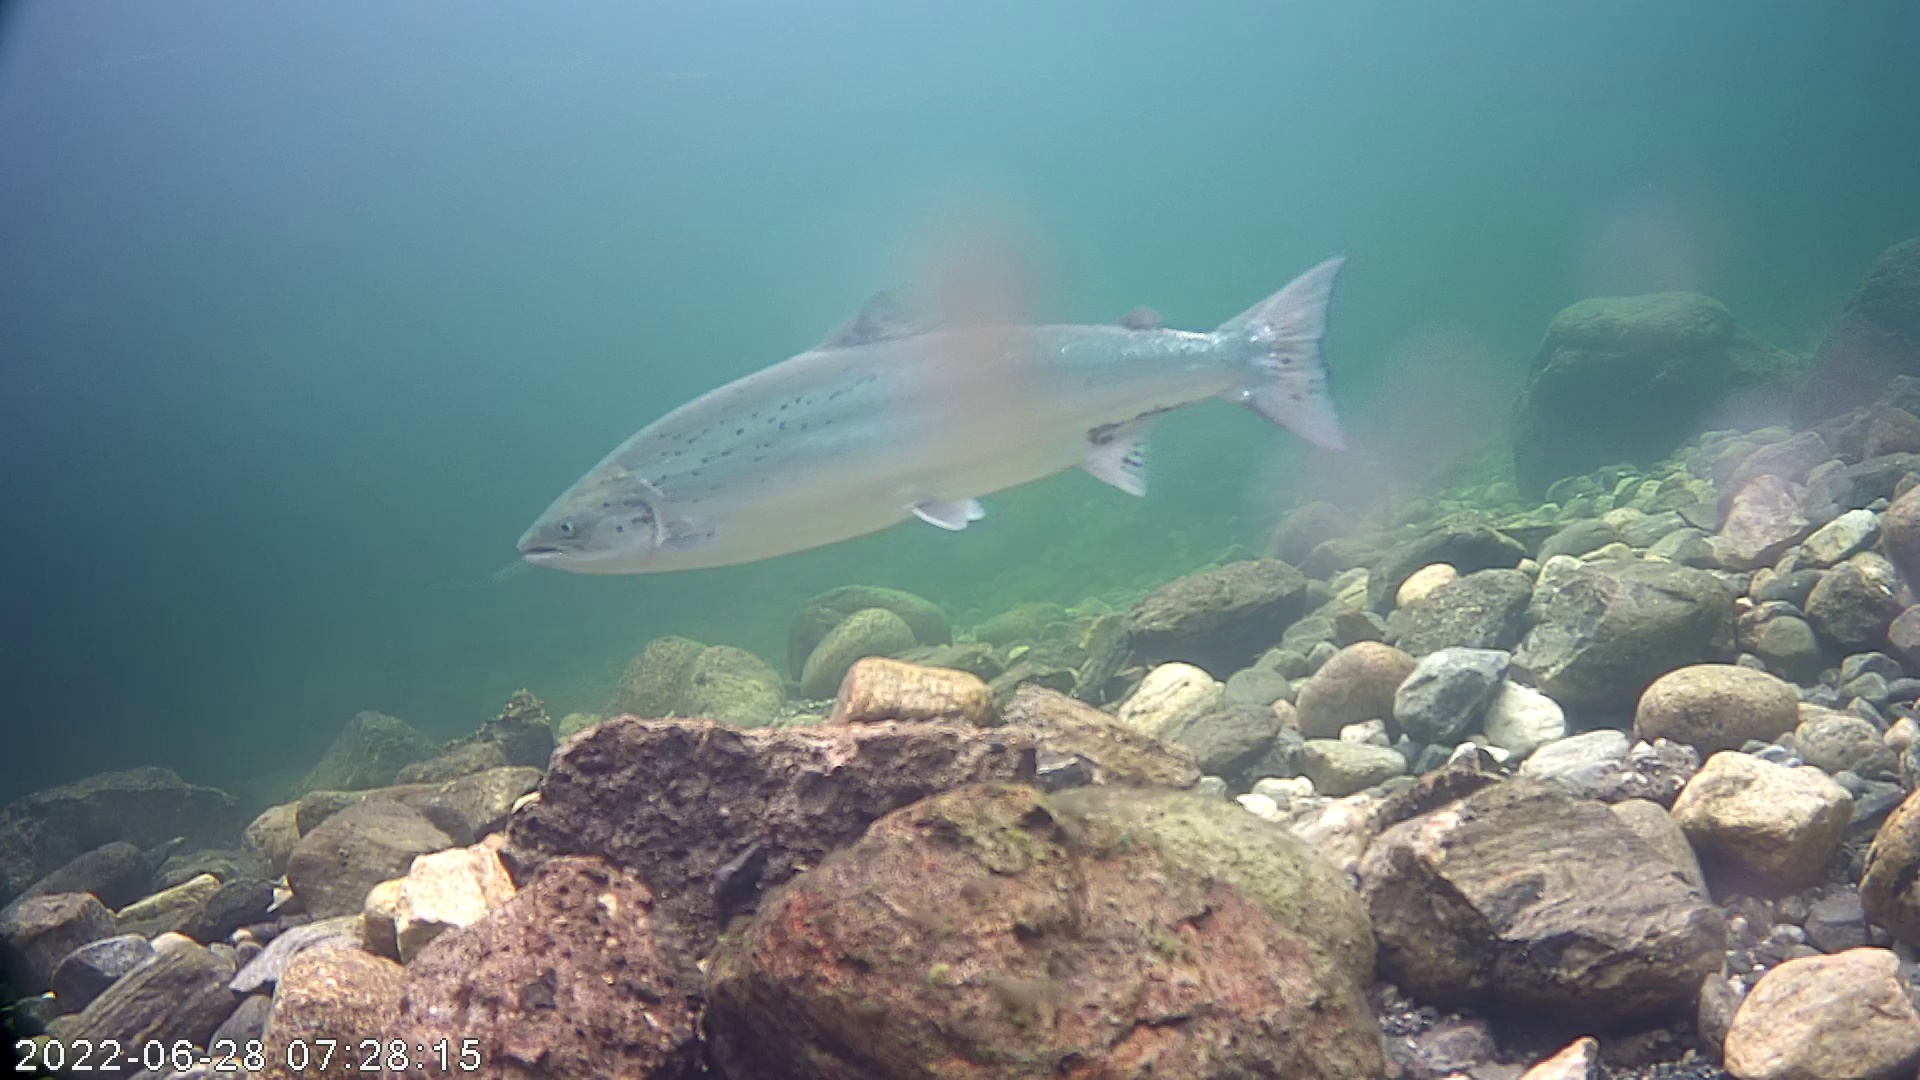salmon: (513, 161, 1389, 625)
